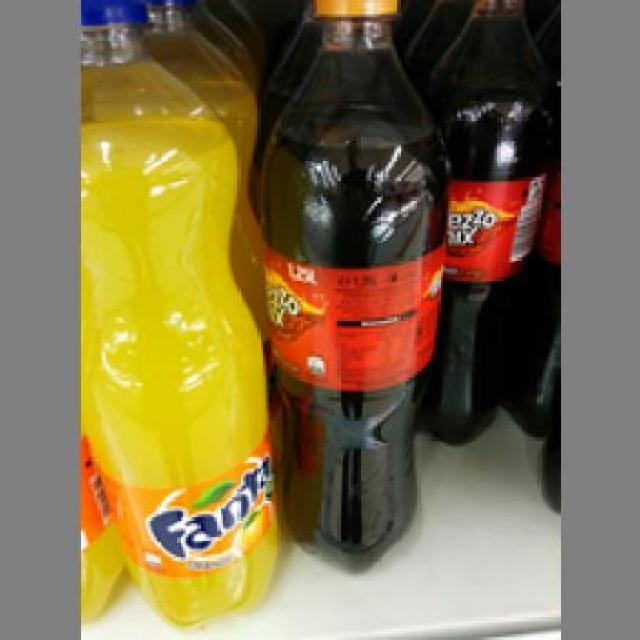Soda: (77, 0, 280, 623), (256, 0, 449, 572), (420, 0, 549, 443)
